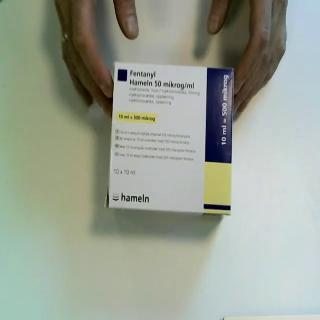fentanyl50ug_ml: (104, 61, 236, 221)
